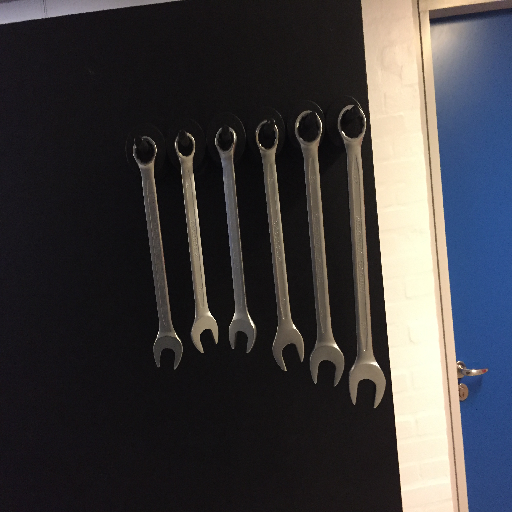bottom: (347, 359, 387, 411), (270, 323, 306, 373), (309, 341, 345, 389), (152, 329, 185, 371), (227, 312, 258, 355), (190, 313, 221, 353)
top: (335, 102, 369, 144), (293, 107, 324, 148), (254, 118, 282, 156), (131, 135, 160, 168), (171, 130, 200, 162), (212, 125, 241, 155)
